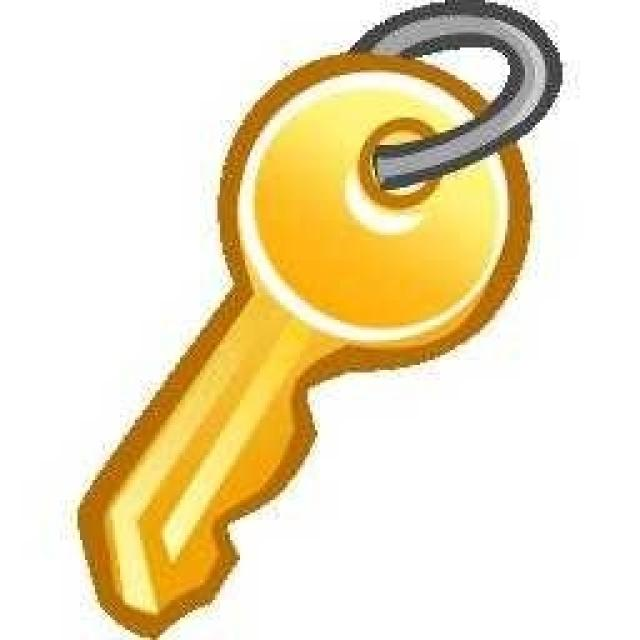anahtar: (48, 49, 540, 639)
